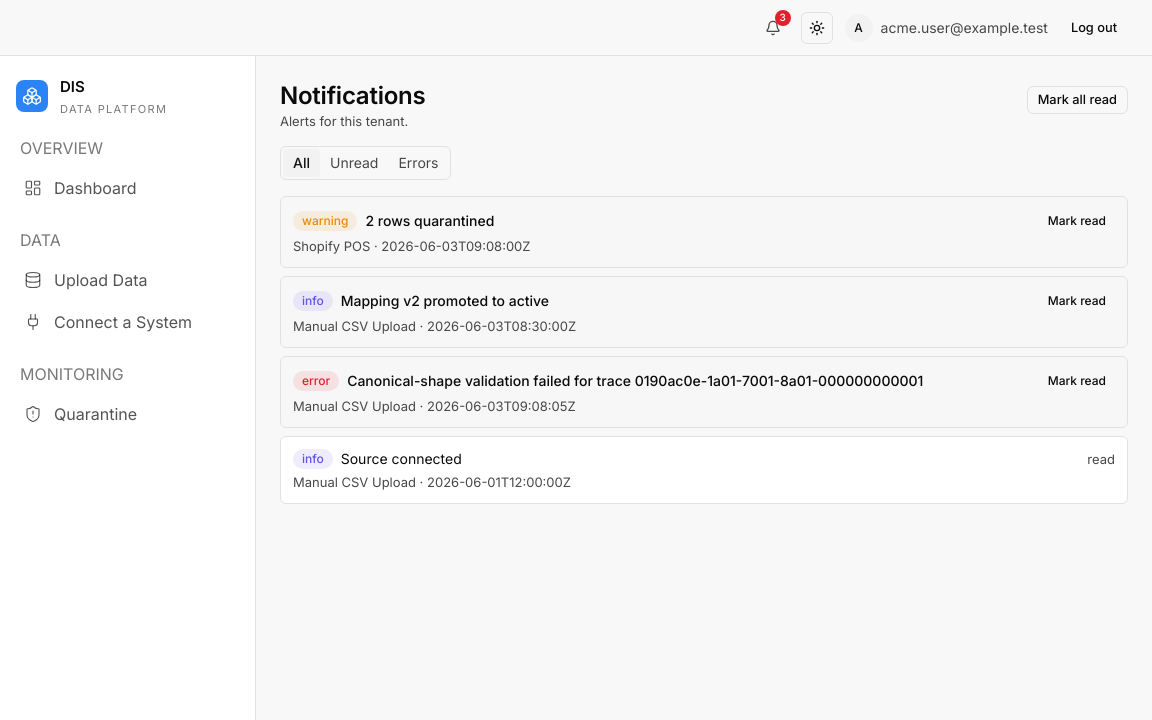
it: Notifications (tenant slice) › mark-read on a single row lowers the bell count
This screenshot has width=1152, height=720.
Expected: the heading "Notifications" is shown, [280, 80, 426, 112]
Click the button "Mark read" in the row of "2 rows quarantined".
click(1077, 221)  # box [1039, 209, 1115, 233]
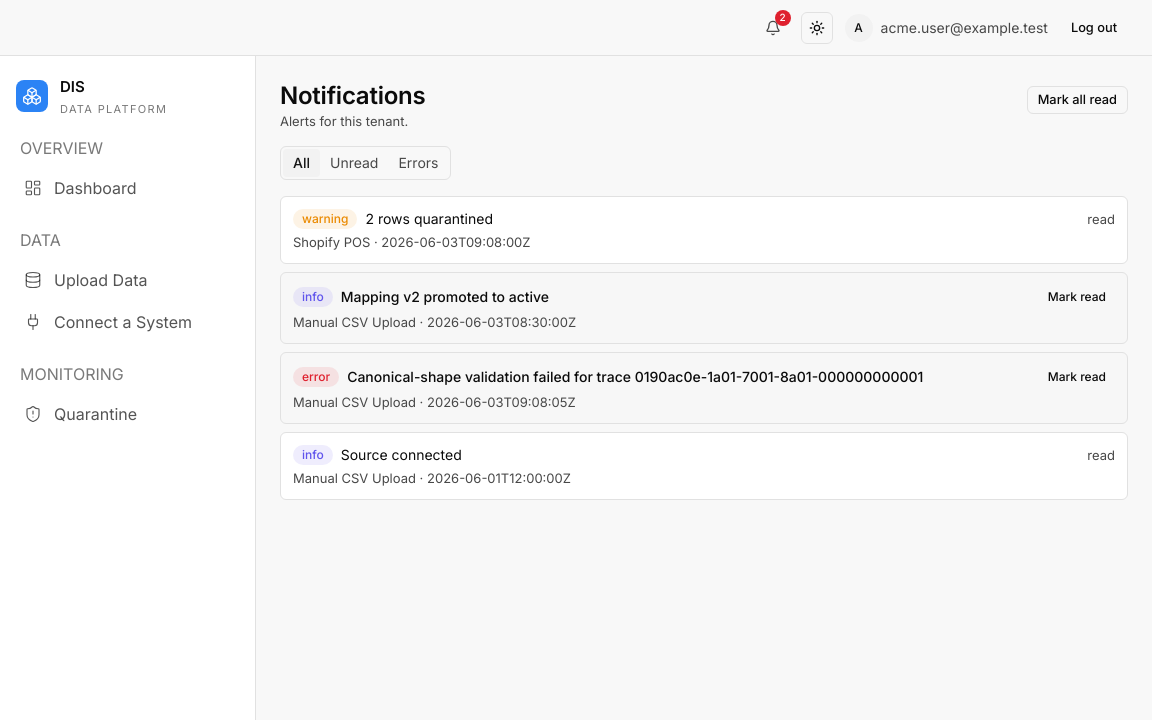
Expected: the link named "Notifications, 2 unread" is shown, [765, 10, 791, 36]
